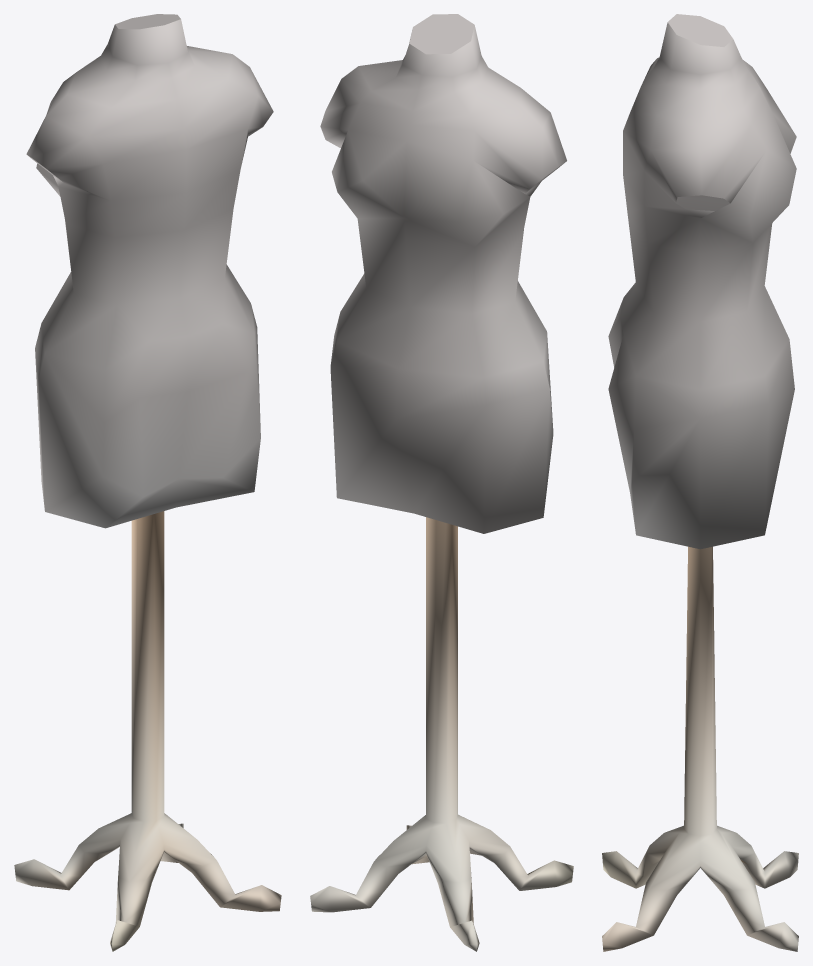
Rendered from Mannequin.glb.
3 renders of one model, left to right at view 1: azimuth 30°, elevation 25°; view 2: azimuth 150°, elevation 25°; view 3: azimuth 270°, elevation 25°, orthographic. The views are drawn at different scales.
Parts seen in each view (by area): view 1: Cube; view 2: Cube; view 3: Cube.
Part boxes in pixels (x1,y1,x2,y2): Cube: (14,14,281,951); Cube: (310,14,573,951); Cube: (602,14,798,951).
Size of the model in its own units: 2.51 by 9.01 by 1.81.
